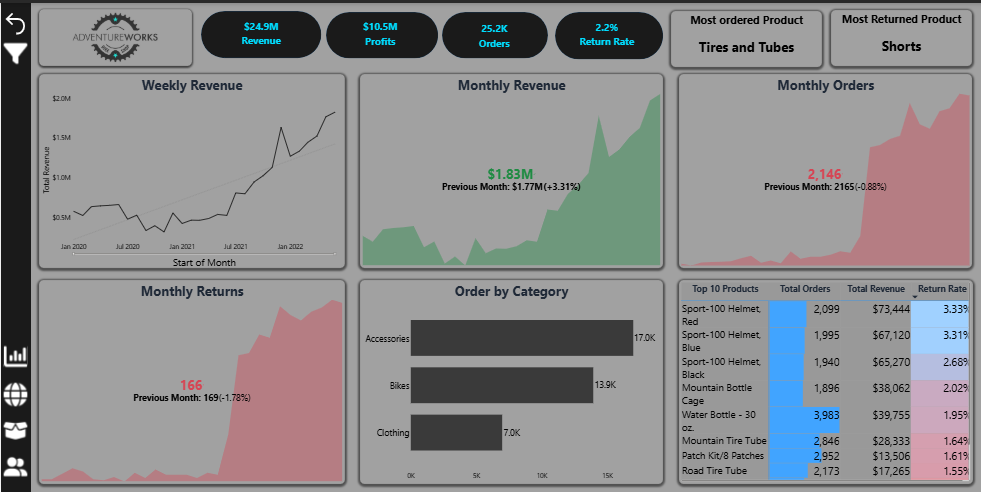

Layout of this report page (visuals, bound fields, positions):
{"tool":"powerbi","page":{"name":"Execitive Dashboard","canvas":[6000,3000],"ordinal":0},"visuals":[{"type":"image","box":[232.7,36.7,936.7,349],"z":0},{"type":"group","id":"g1","title":"KPI Background","box":[1224.5,49.6,2827.4,295.1],"z":0,"group":"g3"},{"type":"shape","box":[2702,54,649,284.2],"z":0,"group":"g1"},{"type":"card","fields":{"Values":["Sum(Sales Data.Revenue)"]},"box":[1373.7,70.2,442.9,223.6],"z":0,"group":"g2"},{"type":"actionButton","box":[12.2,2044.9,153.1,239.6],"z":0,"group":"g4"},{"type":"shape","title":"Left Nav Background","box":[0,0,183.7,3000],"z":1000},{"type":"group","id":"g2","title":"KPI Values","box":[1373.7,42.9,2557.3,300],"z":1000,"group":"g3"},{"type":"card","fields":{"Values":["Measure Table.Total Profit"]},"box":[2105.1,53.4,442.9,250.9],"z":1000,"group":"g2"},{"type":"shape","box":[1988.1,54,687.2,284.2],"z":1000,"group":"g1"},{"type":"actionButton","box":[12.2,2284.5,153.1,227.9],"z":1000,"group":"g4"},{"type":"group","id":"g3","title":"KPIs","box":[1224.5,42.9,2828.6,300],"z":2000},{"type":"card","fields":{"Values":["Measure Table.Total Orders"]},"box":[2797.7,42.9,442.9,300],"z":2000,"group":"g2"},{"type":"shape","box":[1224.5,49.6,736.8,288.7],"z":2000,"group":"g1"},{"type":"actionButton","box":[12.2,2512.4,153.1,216.2],"z":2000,"group":"g4"},{"type":"shape","box":[3389.3,54.3,662.5,290.4],"z":3000,"group":"g1"},{"type":"card","fields":{"Values":["Measure Table.Return Rate"]},"box":[3493,71.6,438.1,218.2],"z":3000,"group":"g2"},{"type":"lineChart","title":"Weekly Revenue","fields":{"Y":["Measure Table.Total Revenue"],"Category":["Calendar Lookup.Year","Calendar Lookup.Start of Quarter","Calendar Lookup.Date Hierarchy.Start of Month"]},"box":[232.7,434.7,1873.5,1187.8],"z":3000},{"type":"actionButton","box":[12.2,2728.7,153.1,216.2],"z":3000,"group":"g4"},{"type":"kpi","title":"Monthly Revenue","fields":{"Indicator":["Measure Table.Total Revenue"],"TrendLine":["Calendar Lookup.Start of Month"],"Goal":["Measure Table.Previous Month Revenue"]},"box":[2198,434.7,1855.1,1187.8],"z":4000},{"type":"kpi","title":"Monthly Orders","fields":{"Indicator":["Measure Table.Total Orders"],"TrendLine":["Calendar Lookup.Start of Month"],"Goal":["Measure Table.Previous Month Orders"]},"box":[4151,434.7,1793.9,1187.8],"z":5000},{"type":"kpi","title":"Monthly Returns","fields":{"Indicator":["Measure Table.Total Returns"],"TrendLine":["Calendar Lookup.Start of Month"],"Goal":["Measure Table.Previous Month Returns"]},"box":[232.7,1695.9,1873.5,1249],"z":6000},{"type":"clusteredBarChart","title":"Order by Category","fields":{"Category":["Product Categories Lookup.CategoryName"],"Y":["Measure Table.Total Orders"]},"box":[2198,1695.9,1855.1,1249],"z":7000},{"type":"card","title":"Most ordered Product","fields":{"Values":["Min(Product Subcategories Lookup.SubcategoryName)"]},"box":[4102,49,924.5,342.9],"z":8000},{"type":"card","title":"Most Returned Product","fields":{"Values":["Min(Product Subcategories Lookup.SubcategoryName)"]},"box":[5081.6,42.9,863.3,342.9],"z":9000},{"type":"pivotTable","fields":{"Rows":["Product Lookup.ProductName"],"Values":["Measure Table.Total Orders","Measure Table.Total Revenue","Measure Table.Return Rate"]},"box":[4151,1695.9,1800,1249],"z":10000},{"type":"actionButton","box":[12.2,49,153.1,153.1],"z":11000},{"type":"actionButton","box":[12.2,232.7,153.1,153.1],"z":13000},{"type":"group","id":"g4","title":"Page Navigation","box":[12.2,2044.9,153.1,900],"z":15000}]}

Visuals, with their boxes in screenshot pixels (x1, y1, x2, y2):
image: x1=39 y1=1 x2=195 y2=59
"KPI Background" group: x1=205 y1=3 x2=677 y2=53
shape: x1=452 y1=4 x2=560 y2=51
card - Sum(Sales Data.Revenue): x1=230 y1=7 x2=304 y2=44
actionButton: x1=2 y1=337 x2=28 y2=377
"Left Nav Background" shape: x1=0 y1=0 x2=31 y2=491
"KPI Values" group: x1=230 y1=2 x2=657 y2=52
card - Measure Table.Total Profit: x1=352 y1=4 x2=426 y2=46
shape: x1=332 y1=4 x2=447 y2=51
actionButton: x1=2 y1=377 x2=28 y2=415
"KPIs" group: x1=205 y1=2 x2=678 y2=52
card - Measure Table.Total Orders: x1=468 y1=2 x2=542 y2=52
shape: x1=205 y1=3 x2=328 y2=51
actionButton: x1=2 y1=415 x2=28 y2=451
shape: x1=567 y1=4 x2=677 y2=53
card - Measure Table.Return Rate: x1=584 y1=7 x2=657 y2=43
"Weekly Revenue" lineChart: x1=39 y1=68 x2=352 y2=266
actionButton: x1=2 y1=451 x2=28 y2=487
"Monthly Revenue" kpi: x1=367 y1=68 x2=678 y2=266
"Monthly Orders" kpi: x1=694 y1=68 x2=980 y2=266
"Monthly Returns" kpi: x1=39 y1=278 x2=352 y2=487
"Order by Category" clusteredBarChart: x1=367 y1=278 x2=678 y2=487
"Most ordered Product" card: x1=686 y1=3 x2=840 y2=60
"Most Returned Product" card: x1=849 y1=2 x2=980 y2=59
pivotTable - Product Lookup.ProductName x Measure Table.Total Orders: x1=694 y1=278 x2=980 y2=487
actionButton: x1=2 y1=3 x2=28 y2=29
actionButton: x1=2 y1=34 x2=28 y2=59
"Page Navigation" group: x1=2 y1=337 x2=28 y2=487
